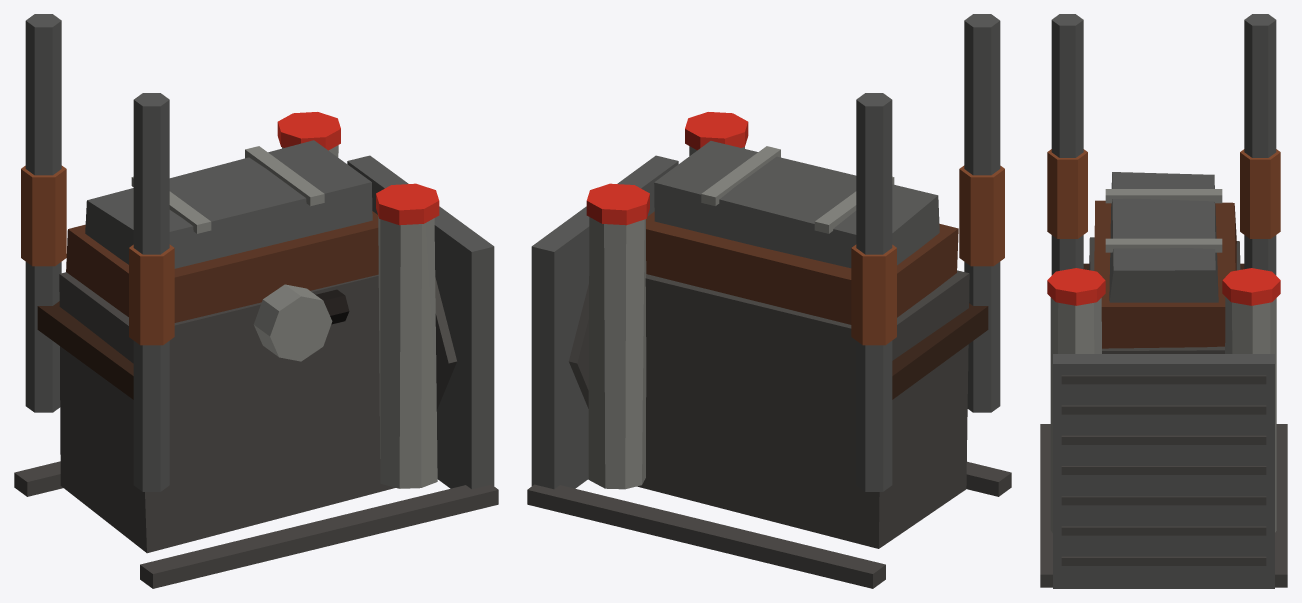
File: eng_heavy_diesel.glb
3 views of the same model, side by side, from view 1: azimuth 30°, elevation 25°; view 2: azimuth 150°, elevation 25°; view 3: azimuth 270°, elevation 25° (orthographic). The views are drawn at different scales.
Parts seen in each view (by area): view 1: eng_heavy_diesel; view 2: eng_heavy_diesel; view 3: eng_heavy_diesel.
Boxes of the visible parts, bbox=[...] form: eng_heavy_diesel: bbox=[14, 14, 498, 588]; eng_heavy_diesel: bbox=[527, 14, 1011, 588]; eng_heavy_diesel: bbox=[1040, 14, 1287, 588].
Size of the model in its own units: 1.25 by 1.6 by 0.848.
